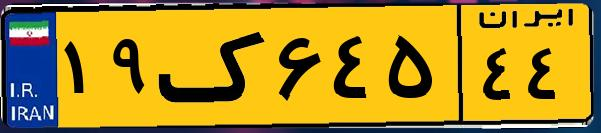1: (57, 26, 110, 100)
4: (330, 28, 385, 110), (475, 38, 525, 113), (525, 38, 570, 115)
5: (385, 28, 445, 110)
6: (270, 28, 330, 110)
9: (110, 28, 158, 98)
ک: (158, 12, 270, 120)
